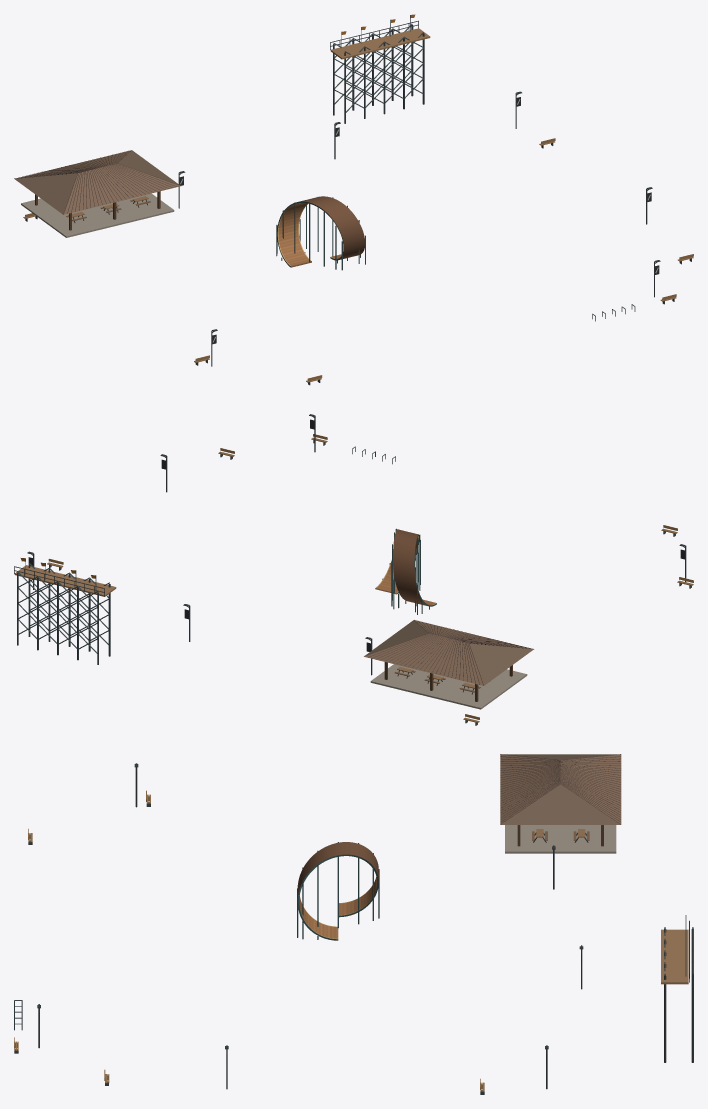
Rendered from architecture.glb.
3 renders of one model, top to bottom at view 1: azimuth 30°, elevation 25°; view 2: azimuth 150°, elevation 25°; view 3: azimuth 270°, elevation 25°, orthographic. The views are drawn at different scales.
Visible parts, largest first — view 1: Riverside · pavilion, tower, full loop and street furniture; view 2: Riverside · pavilion, tower, full loop and street furniture; view 3: Riverside · pavilion, tower, full loop and street furniture.
Boxes of the visible parts, bbox=[...] form: Riverside · pavilion, tower, full loop and street furniture: bbox=[14, 14, 693, 385]; Riverside · pavilion, tower, full loop and street furniture: bbox=[14, 414, 693, 725]; Riverside · pavilion, tower, full loop and street furniture: bbox=[14, 754, 693, 1094].
Size of the model in its own units: 101 by 16.57 by 97.78.
